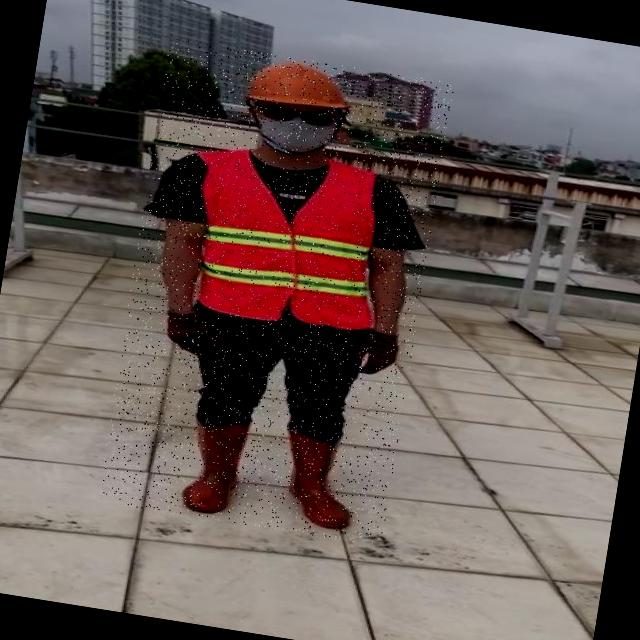boots: (276, 426, 360, 532), (178, 416, 252, 516)
helmet: (242, 52, 352, 119)
vest: (188, 143, 396, 335)
